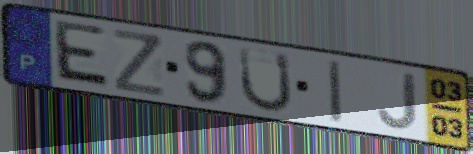9: (182, 40, 230, 107)
E: (52, 18, 113, 92)
I: (327, 58, 345, 127)
J: (375, 72, 420, 132)
U: (237, 44, 296, 114)
Z: (110, 26, 169, 100)
